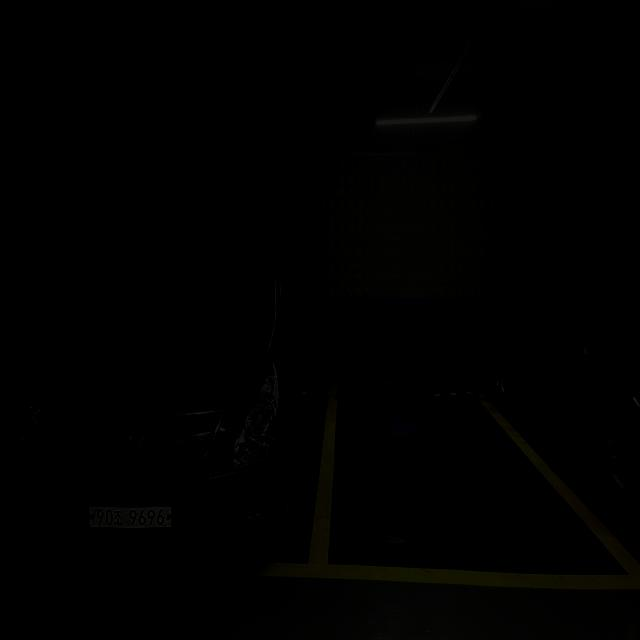empty: (320, 380, 632, 585)
occupied: (2, 234, 298, 582)
